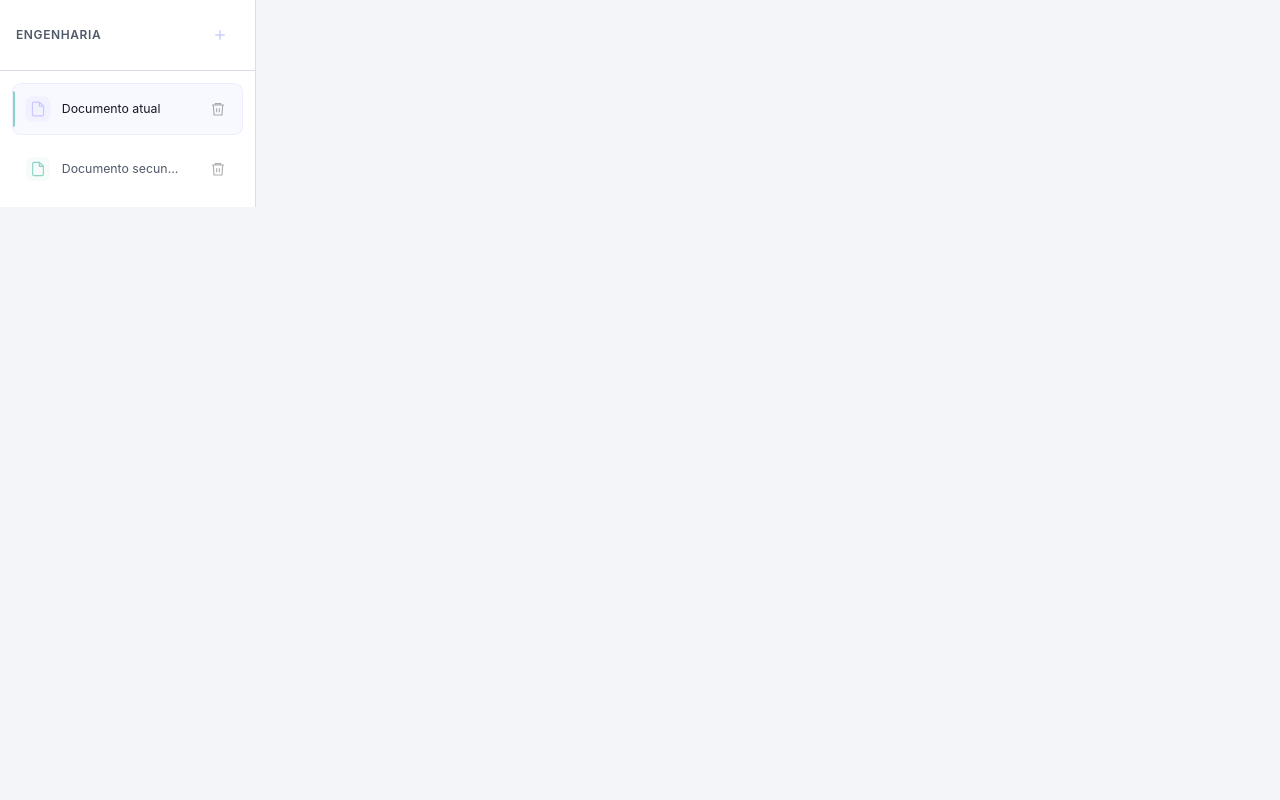
Test: WorkspaceSidebar - exclusão de documentos › exige confirmação e cancelar não exclui
The image size is (1280, 800).
Click the button named "Excluir documento Documento atual" at (218, 109), box [200, 91, 236, 127]
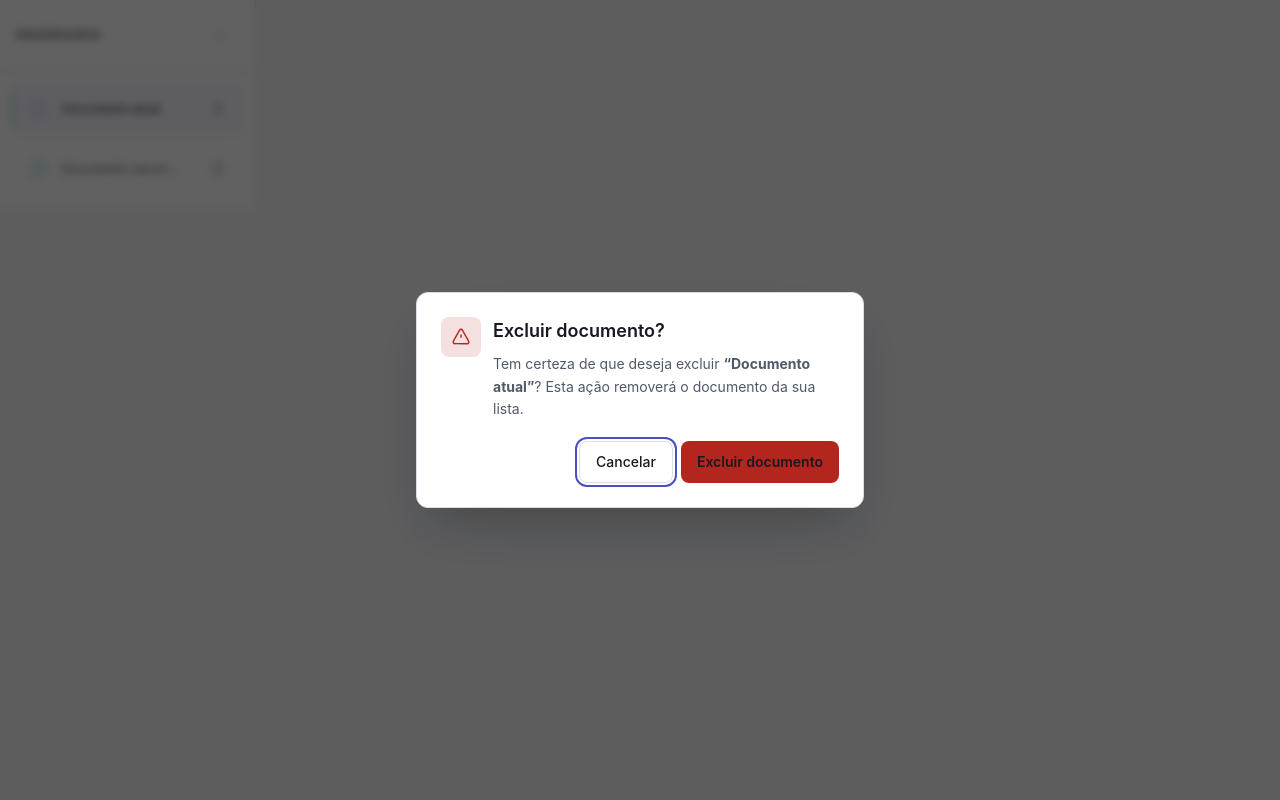
Expected: the dialog is shown, [416, 292, 864, 508]
Expected: the heading "Excluir documento?" is shown, [493, 320, 665, 341]
Click the button "Cancelar" at (626, 462), box [579, 441, 673, 483]
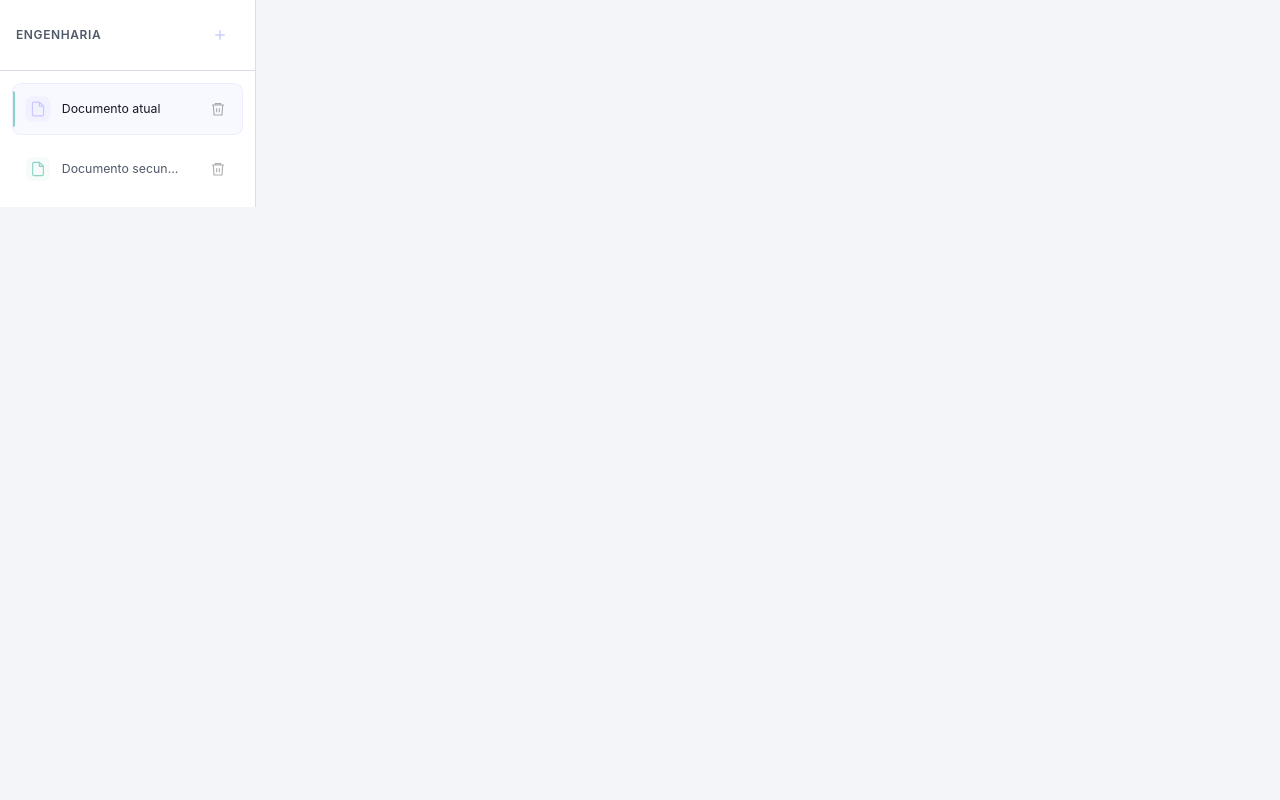
Expected: the dialog is gone
